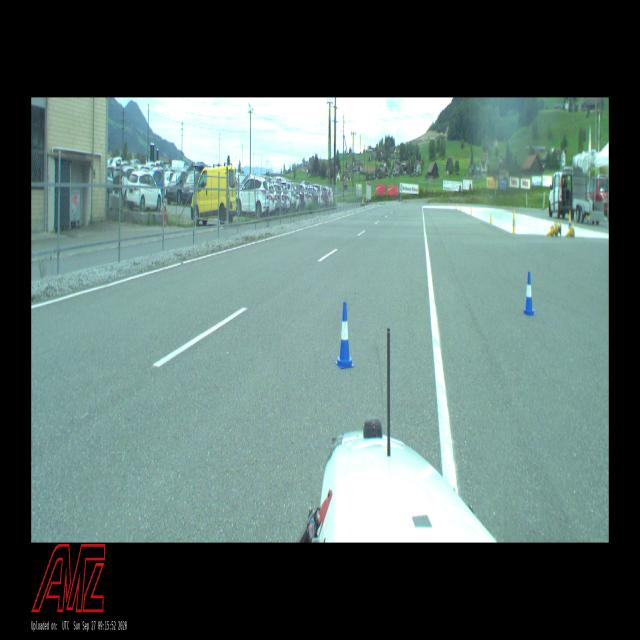blue_cone: (335, 302, 355, 368), (522, 271, 536, 316)
unknown_cone: (546, 225, 554, 236), (565, 227, 572, 238), (512, 218, 516, 234), (512, 208, 515, 222), (489, 212, 492, 224), (569, 210, 571, 223), (470, 207, 472, 216)
